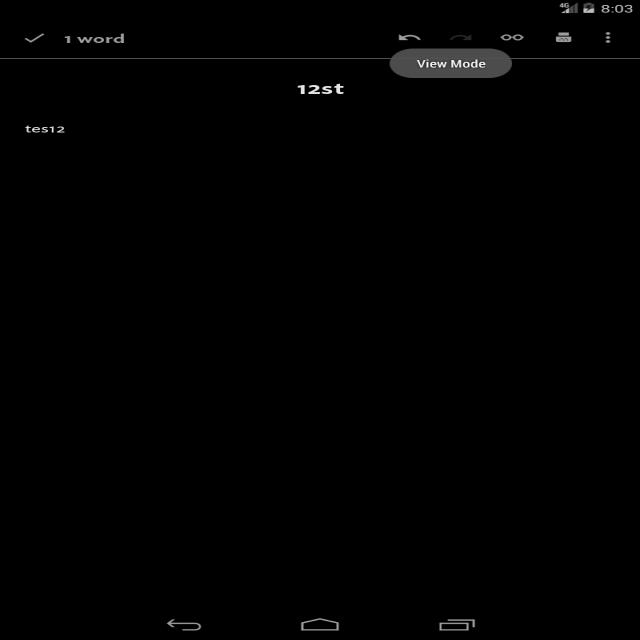ImageButton: (16, 28, 50, 49), (386, 31, 428, 47), (441, 30, 482, 46), (496, 29, 530, 47), (547, 29, 581, 47), (594, 30, 622, 48)
TextView: (289, 77, 363, 103), (63, 29, 142, 49), (411, 54, 495, 72), (18, 117, 80, 138)
